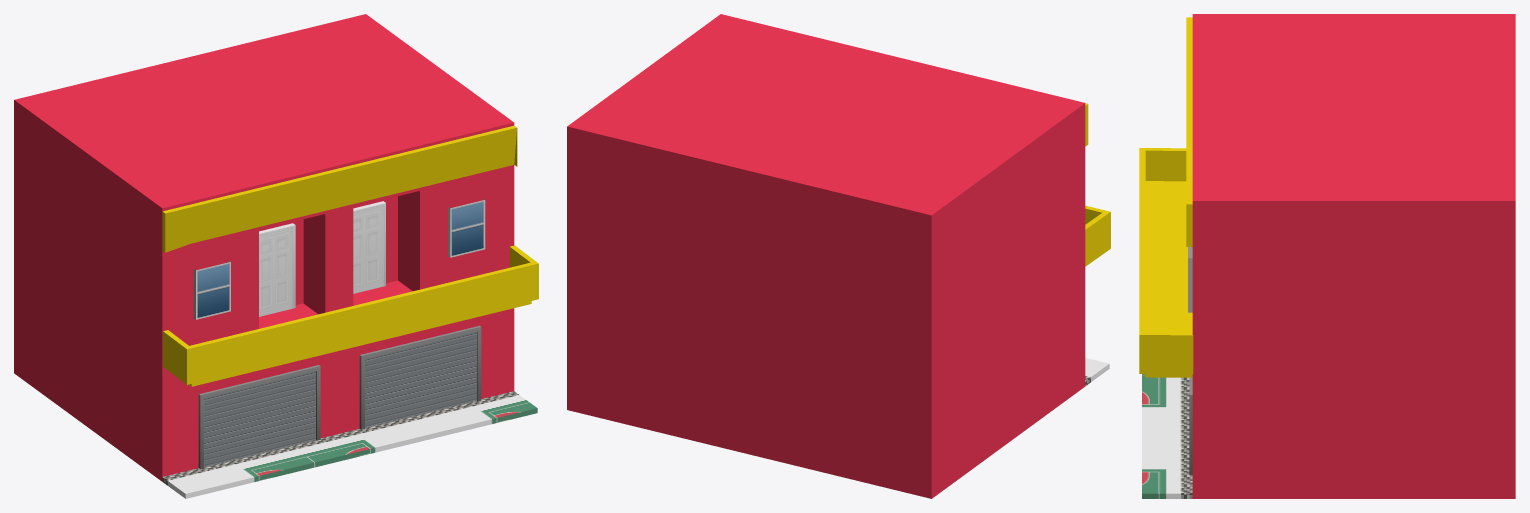
The model's file is RukoBesar2.fbx.
3 renders of one model, left to right at view 1: azimuth 30°, elevation 25°; view 2: azimuth 150°, elevation 25°; view 3: azimuth 270°, elevation 25°, orthographic. The views are drawn at different scales.
Parts seen in each view (by area): view 1: Body1RukoBesar2_LOD0, Body2RukoBesar2_LOD0; view 2: Body1RukoBesar2_LOD0, Body2RukoBesar2_LOD0; view 3: Body1RukoBesar2_LOD0, Body2RukoBesar2_LOD0.
Boxes of the visible parts, bbox=[...] form: Body1RukoBesar2_LOD0: bbox=[14, 14, 537, 498]; Body2RukoBesar2_LOD0: bbox=[162, 125, 538, 386]; Body1RukoBesar2_LOD0: bbox=[567, 14, 1109, 498]; Body2RukoBesar2_LOD0: bbox=[1085, 103, 1110, 266]; Body1RukoBesar2_LOD0: bbox=[1142, 14, 1515, 498]; Body2RukoBesar2_LOD0: bbox=[1139, 17, 1193, 377].
Size of what is drawn, in the model's own units: 1062 by 788 by 902.
